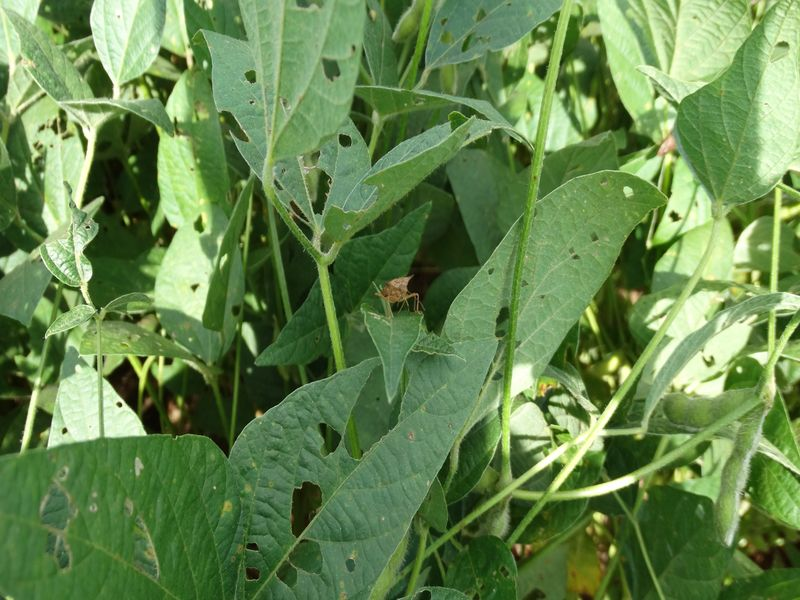Euschistus_heros_adulto: (371, 272, 429, 322)
